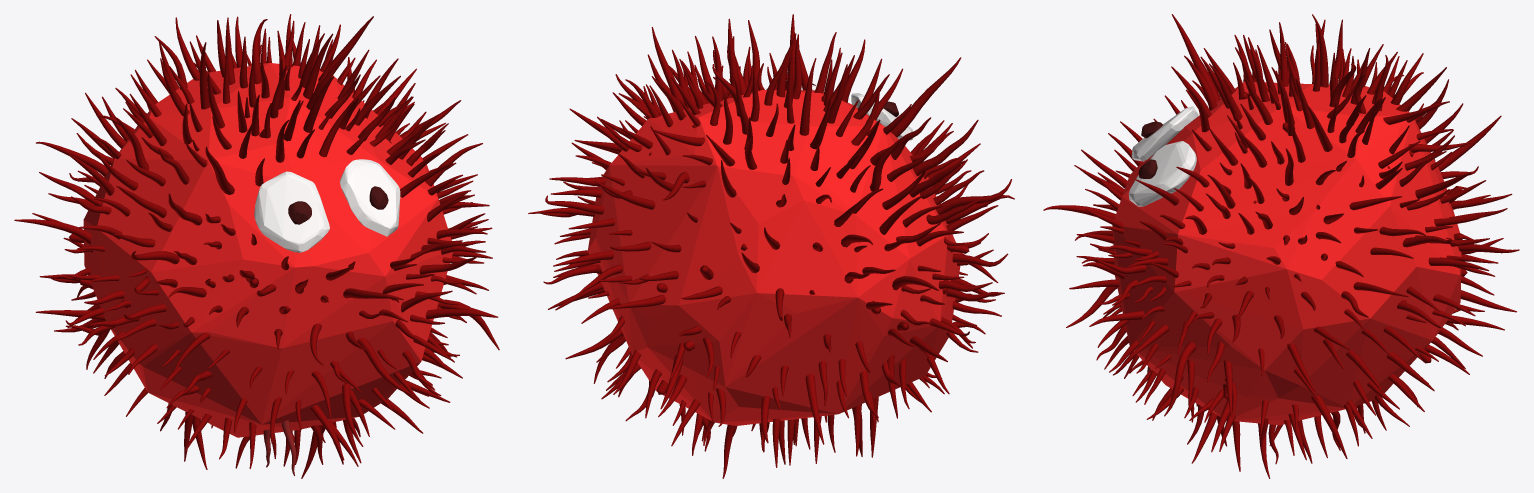
Rendered from Puffball (red).glb.
The picture shows the model from 3 angles, left to right: view 1: azimuth 30°, elevation 25°; view 2: azimuth 150°, elevation 25°; view 3: azimuth 270°, elevation 25°; orthographic projection. The views are drawn at different scales.
Visible parts, largest first — view 1: brush_MatteHull_g0_b0, brush_Wire_g0_b0; view 2: brush_MatteHull_g0_b0, brush_Wire_g0_b0; view 3: brush_MatteHull_g0_b0, brush_Wire_g0_b0.
Boxes of the visible parts, <box> form: brush_MatteHull_g0_b0: <box>83,63,452,437</box>; brush_Wire_g0_b0: <box>14,14,499,478</box>; brush_MatteHull_g0_b0: <box>588,83,960,425</box>; brush_Wire_g0_b0: <box>528,14,1014,478</box>; brush_MatteHull_g0_b0: <box>1112,81,1461,425</box>; brush_Wire_g0_b0: <box>1043,14,1519,478</box>.
Bounding box in the file's own units: 0.7764 × 0.764 × 0.805.
